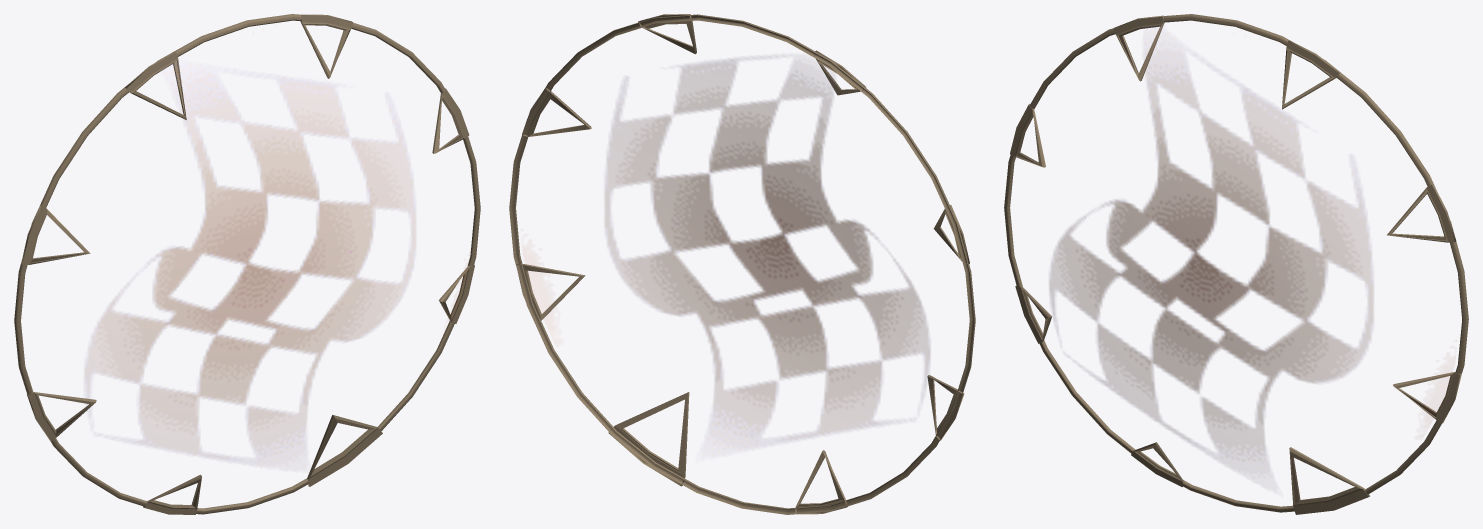
File: ckp-0.glb
3 renders of one model, left to right at view 1: azimuth 30°, elevation 25°; view 2: azimuth 150°, elevation 25°; view 3: azimuth 330°, elevation 25°, orthographic.
Visible parts, largest first — view 1: ckp0; view 2: ckp0; view 3: ckp0.
Boxes of the visible parts, bbox=[...] form: ckp0: bbox=[14, 14, 480, 514]; ckp0: bbox=[509, 14, 975, 514]; ckp0: bbox=[1004, 14, 1468, 514].
Bounding box in the file's own units: 12.36 × 12.36 × 0.9812.
Materials: 2 (2 with a texture image).
